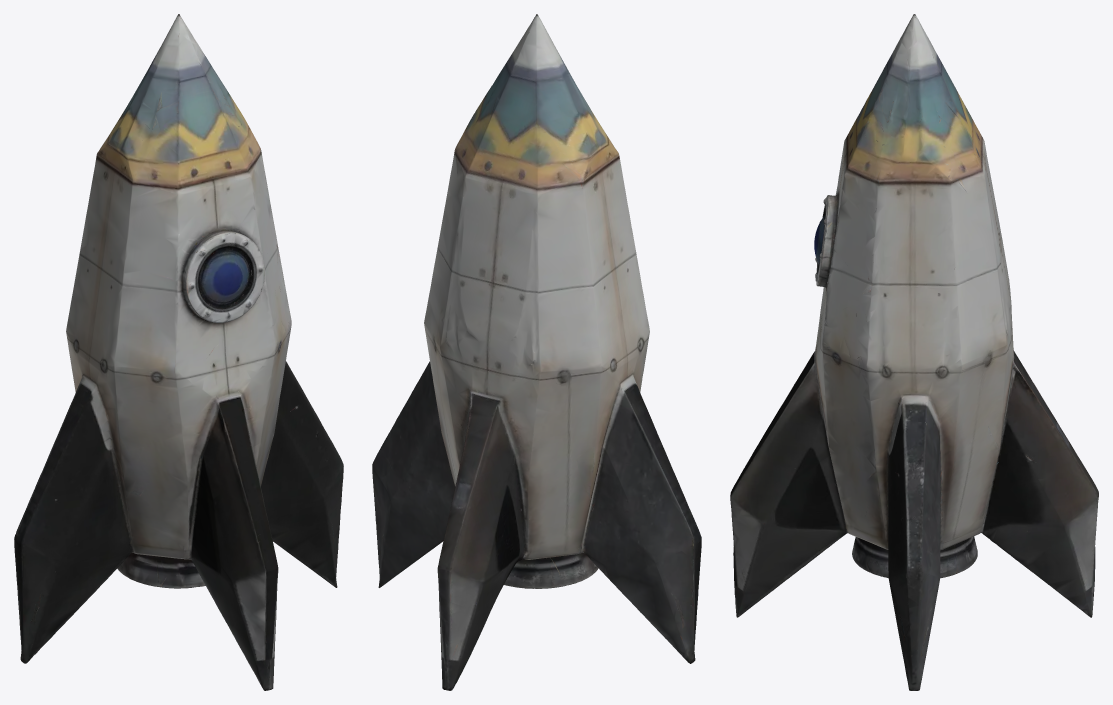
File: model.opt.glb
3 renders of one model, left to right at view 1: azimuth 30°, elevation 25°; view 2: azimuth 150°, elevation 25°; view 3: azimuth 270°, elevation 25°, orthographic.
Bounding box in the file's own units: 1.1 × 2 × 1.11.
1 material, 1 textured.
